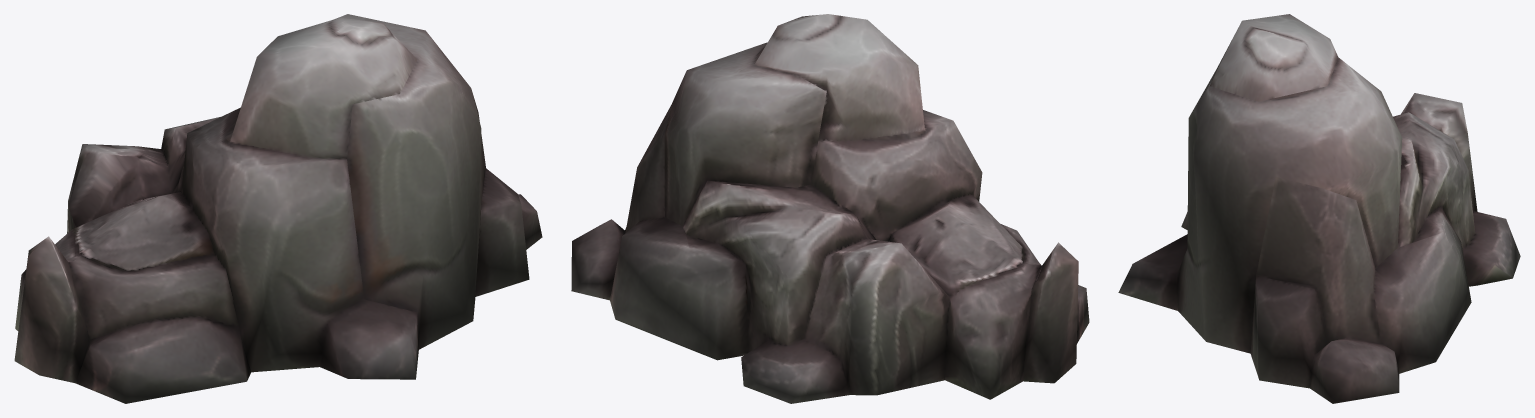
File: Big 2.fbx
The picture shows the model from 3 angles, left to right: view 1: azimuth 30°, elevation 25°; view 2: azimuth 150°, elevation 25°; view 3: azimuth 270°, elevation 25°; orthographic projection. The views are drawn at different scales.
Visible parts, largest first — view 1: Big_2; view 2: Big_2; view 3: Big_2.
Boxes of the visible parts, box(x1,y1,x2,y2) form: Big_2: box(14, 14, 542, 403); Big_2: box(571, 14, 1089, 403); Big_2: box(1118, 14, 1520, 403).
Bounding box in the file's own units: 741 × 397 × 531.
